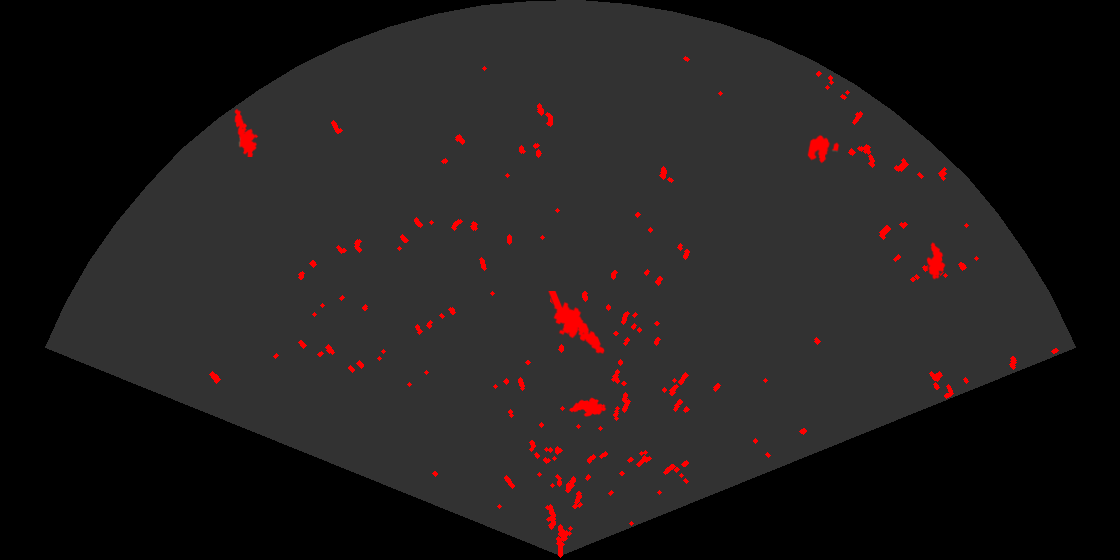AUV: (567, 396, 608, 418), (925, 240, 947, 281)
ball: (806, 133, 841, 165)
frogman: (547, 291, 606, 356), (233, 108, 260, 157)
